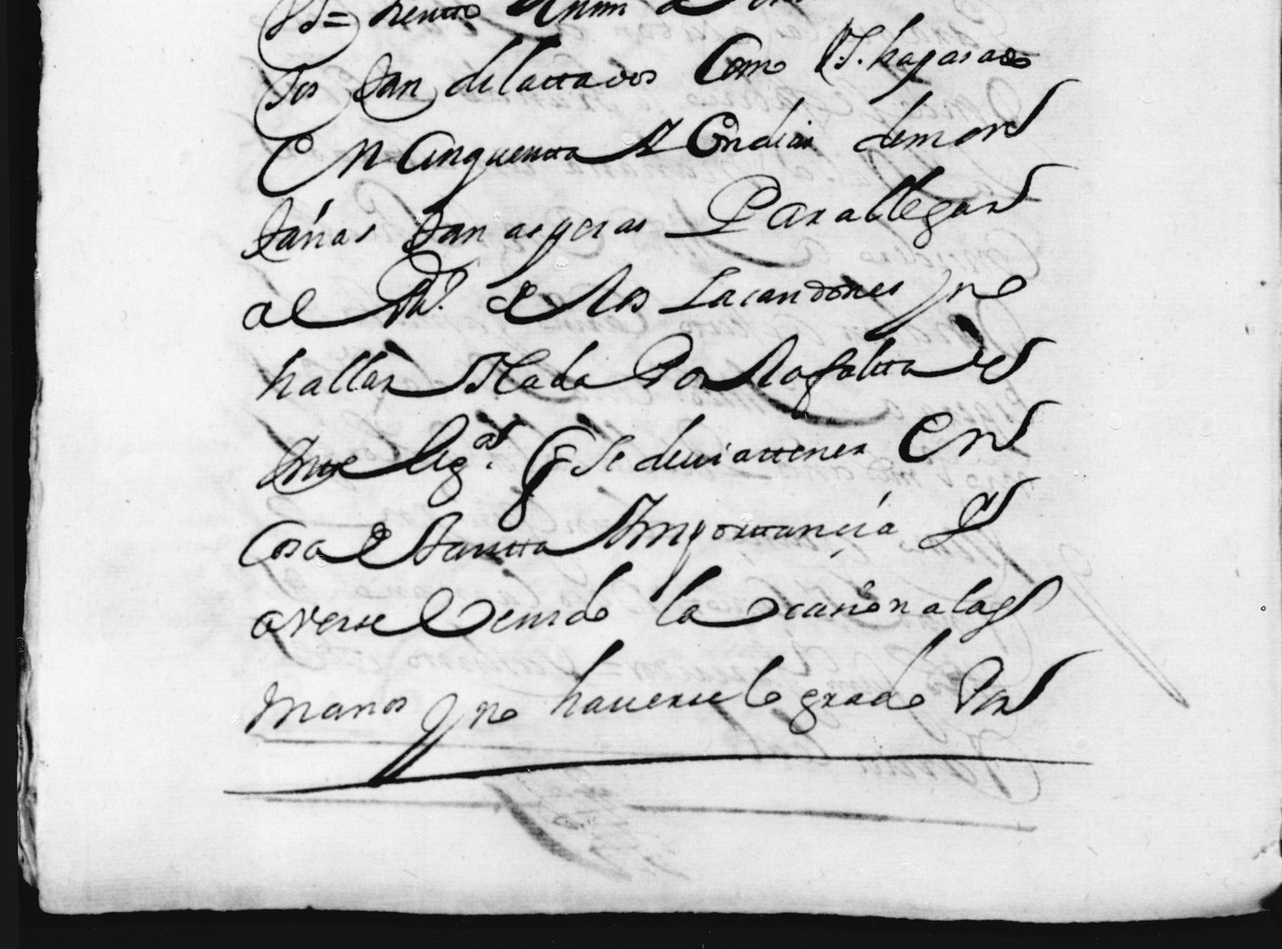lacandon: (657, 267, 904, 314)
